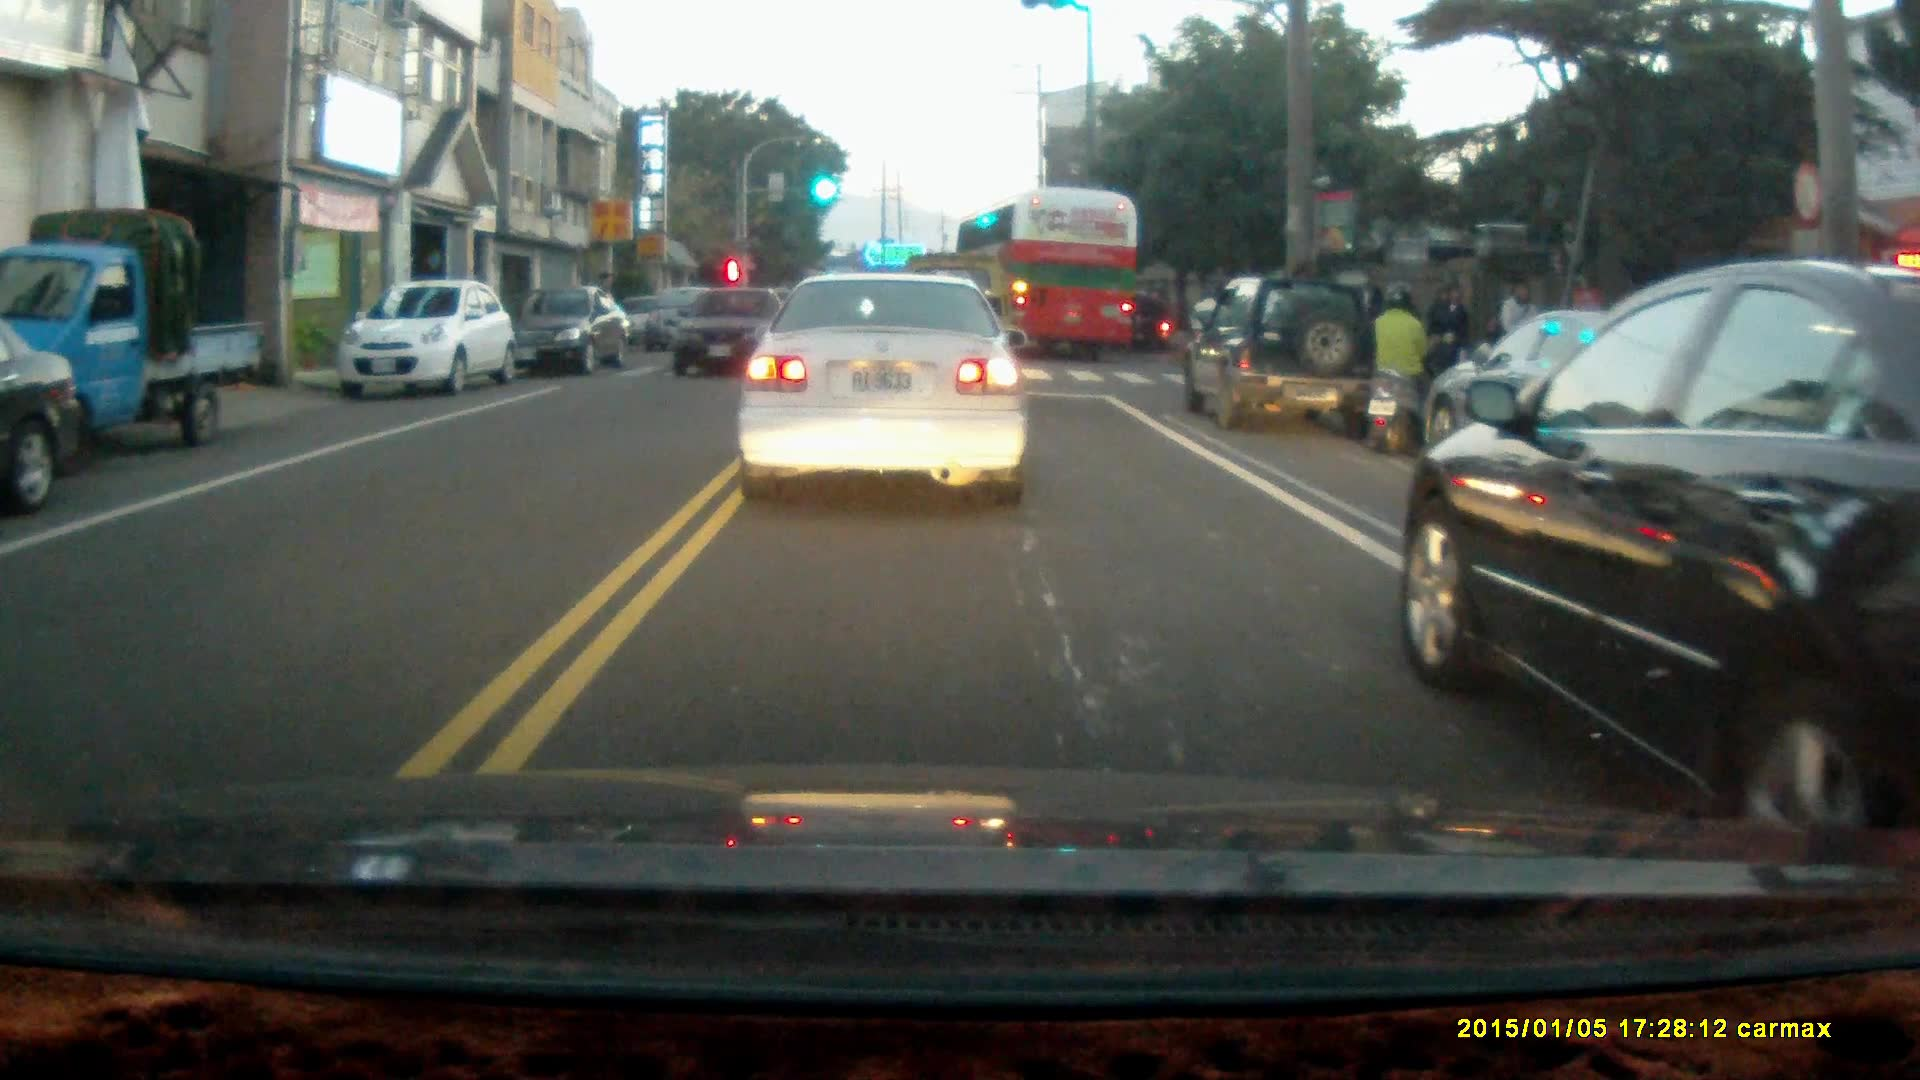pedestrian: (1495, 272, 1544, 384), (1427, 278, 1472, 399)
rider: (1363, 282, 1437, 455), (1115, 293, 1176, 351)
vehicle: (1406, 257, 1920, 832), (731, 268, 1031, 507), (1, 210, 270, 454), (1417, 307, 1746, 472), (1184, 275, 1389, 436), (960, 188, 1137, 360), (340, 283, 511, 399), (1, 311, 87, 515), (517, 285, 636, 376), (674, 287, 782, 385)
